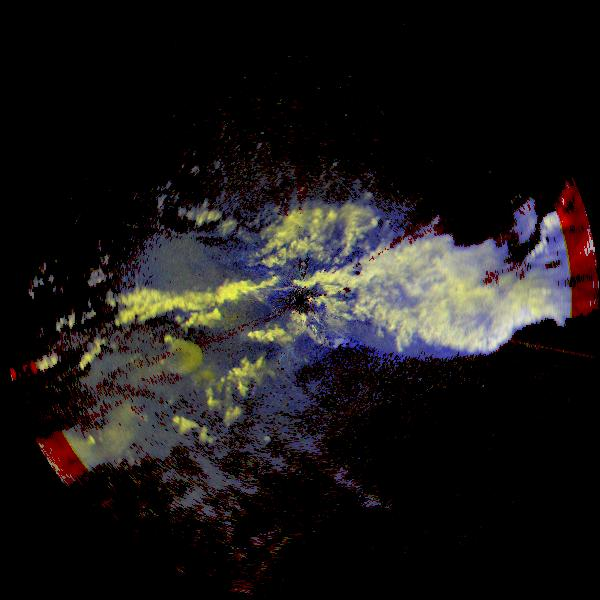roost: (150, 329, 210, 389)
